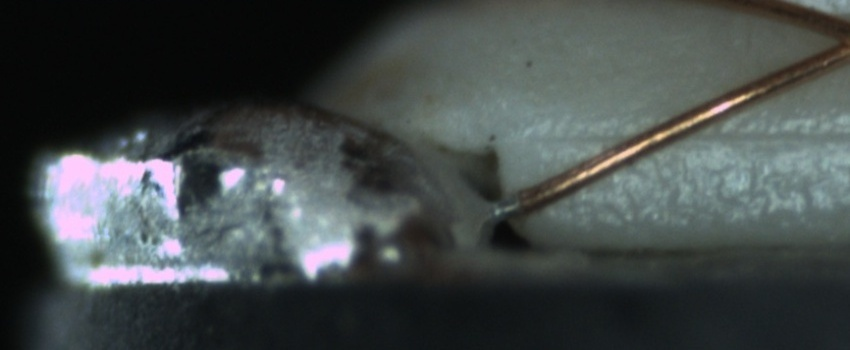CL: (804, 4, 850, 69)
DL: (539, 105, 850, 167)
TS: (490, 193, 519, 219)
